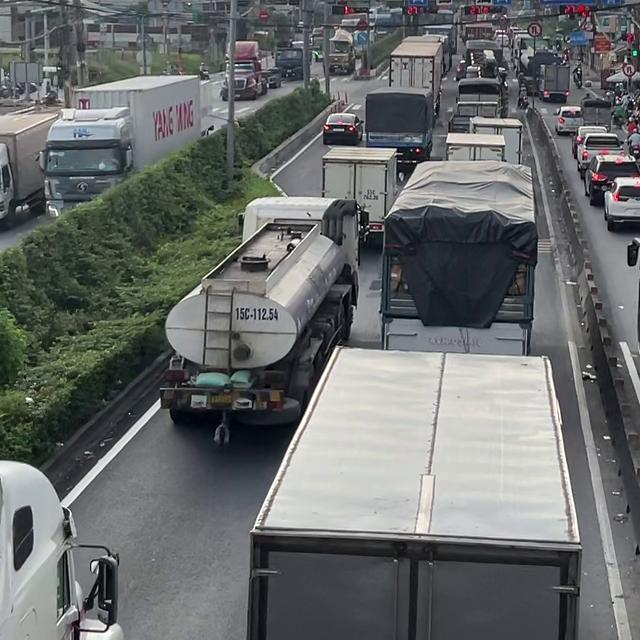car: (583, 152, 639, 205), (576, 132, 623, 180), (602, 176, 639, 231), (322, 112, 363, 145), (571, 124, 608, 159), (553, 105, 584, 135)
motorcycle: (516, 84, 528, 108), (572, 67, 583, 89)
truck: (245, 345, 583, 639), (158, 195, 364, 446), (378, 159, 538, 355), (38, 75, 204, 221), (0, 458, 124, 639), (320, 146, 401, 246), (0, 107, 60, 229), (363, 87, 436, 168), (388, 35, 444, 116), (220, 40, 283, 100), (513, 36, 559, 95), (468, 116, 523, 164), (455, 79, 508, 123), (444, 132, 506, 162), (463, 39, 508, 79), (537, 63, 571, 102), (580, 97, 612, 132), (422, 24, 457, 54)
